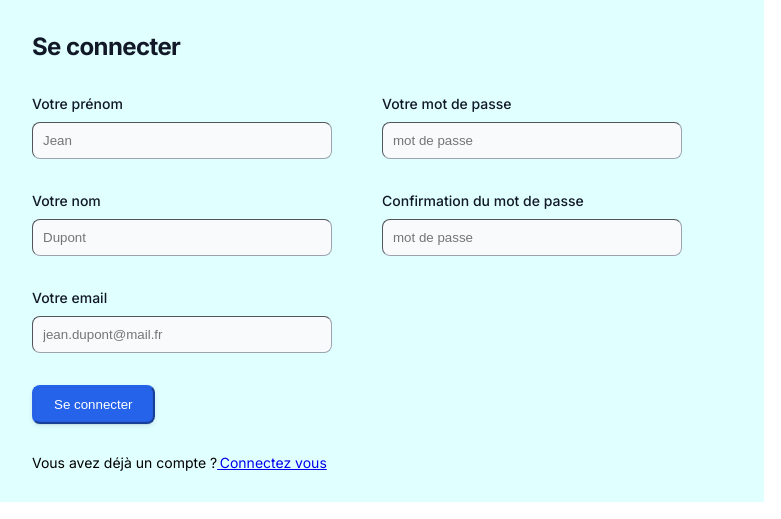
Test case: when user try to register › and when he try to fill password fields › should display error when password format is invalid
The image size is (781, 519).
Type "John" into the field labelled "Votre prénom".
click(182, 140); type("John")  # box [32, 122, 332, 159]
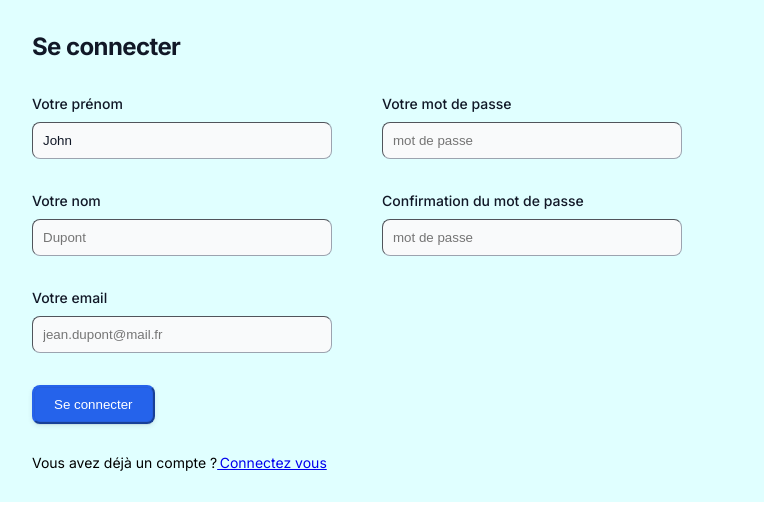
Type "Doe" into the field labelled "Votre nom".
click(182, 238); type("Doe")  # box [32, 219, 332, 256]
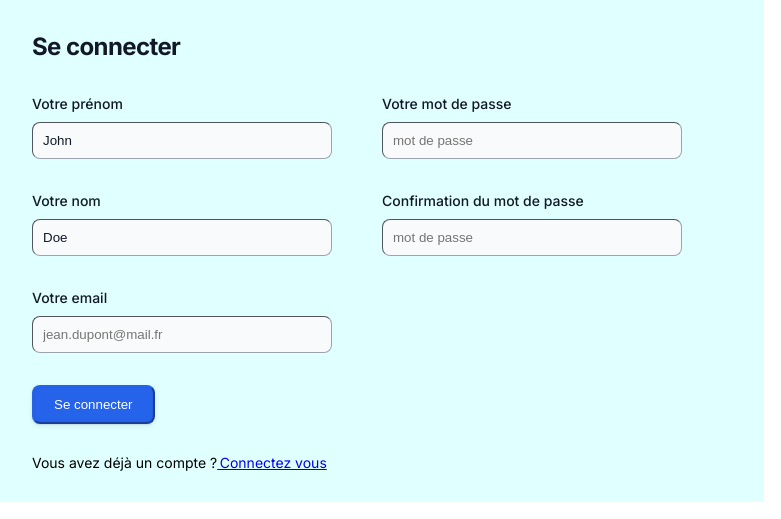
Type "test@mail.fr" into the field labelled "Votre email".
click(182, 334); type("test@mail.fr")  # box [32, 316, 332, 353]
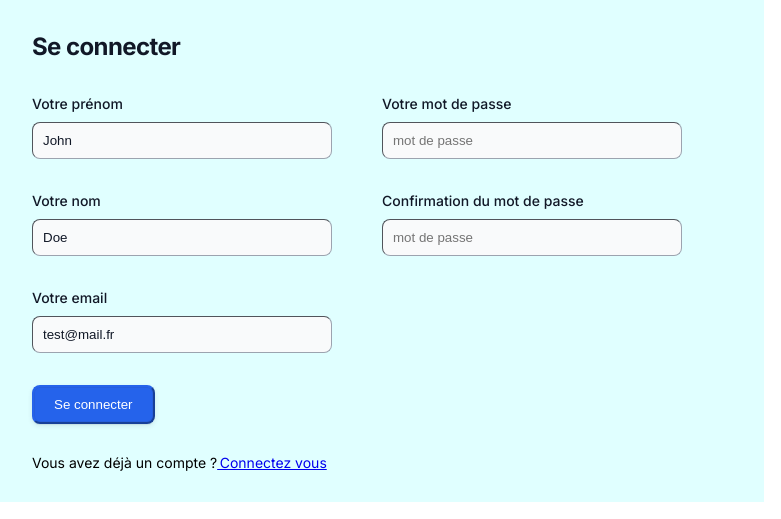
Type "Secret1" into the password field labelled "Votre mot de passe".
click(532, 140); type("Secret1")  # box [382, 122, 682, 159]
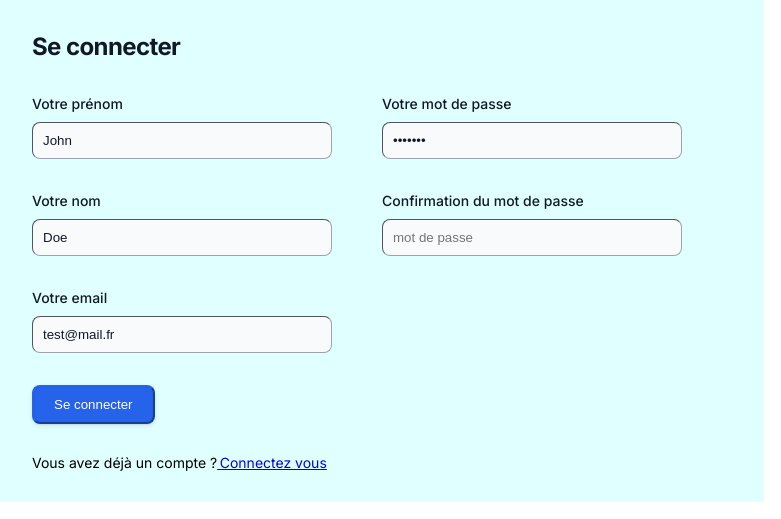
Submit the form from the button, box [32, 385, 154, 424]
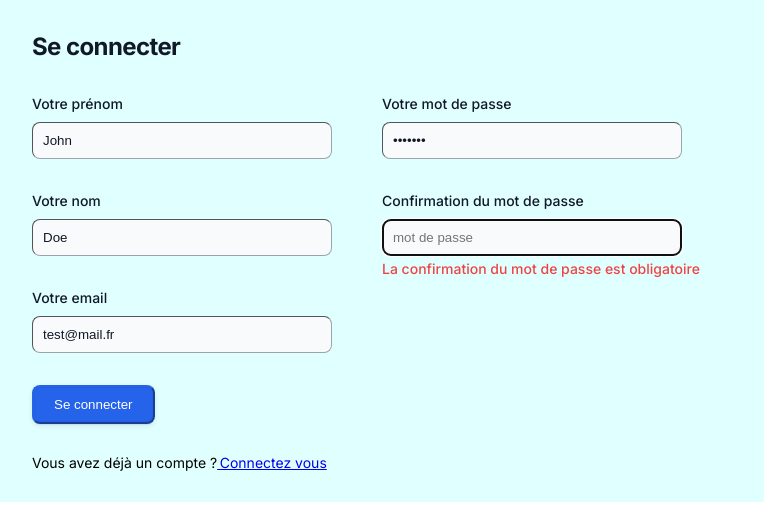
Expected: the number of messages is 1, [382, 259, 700, 279]
